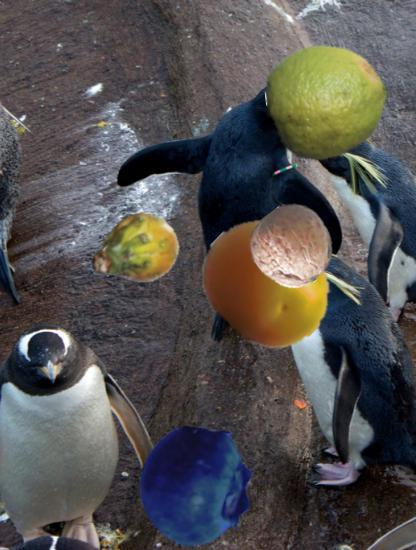Cactus: (92, 209, 181, 298)
Cherry: (200, 215, 336, 351)
Huckleberry: (136, 428, 254, 546)
Limes: (266, 41, 389, 164)
Walnut: (251, 206, 334, 289)
